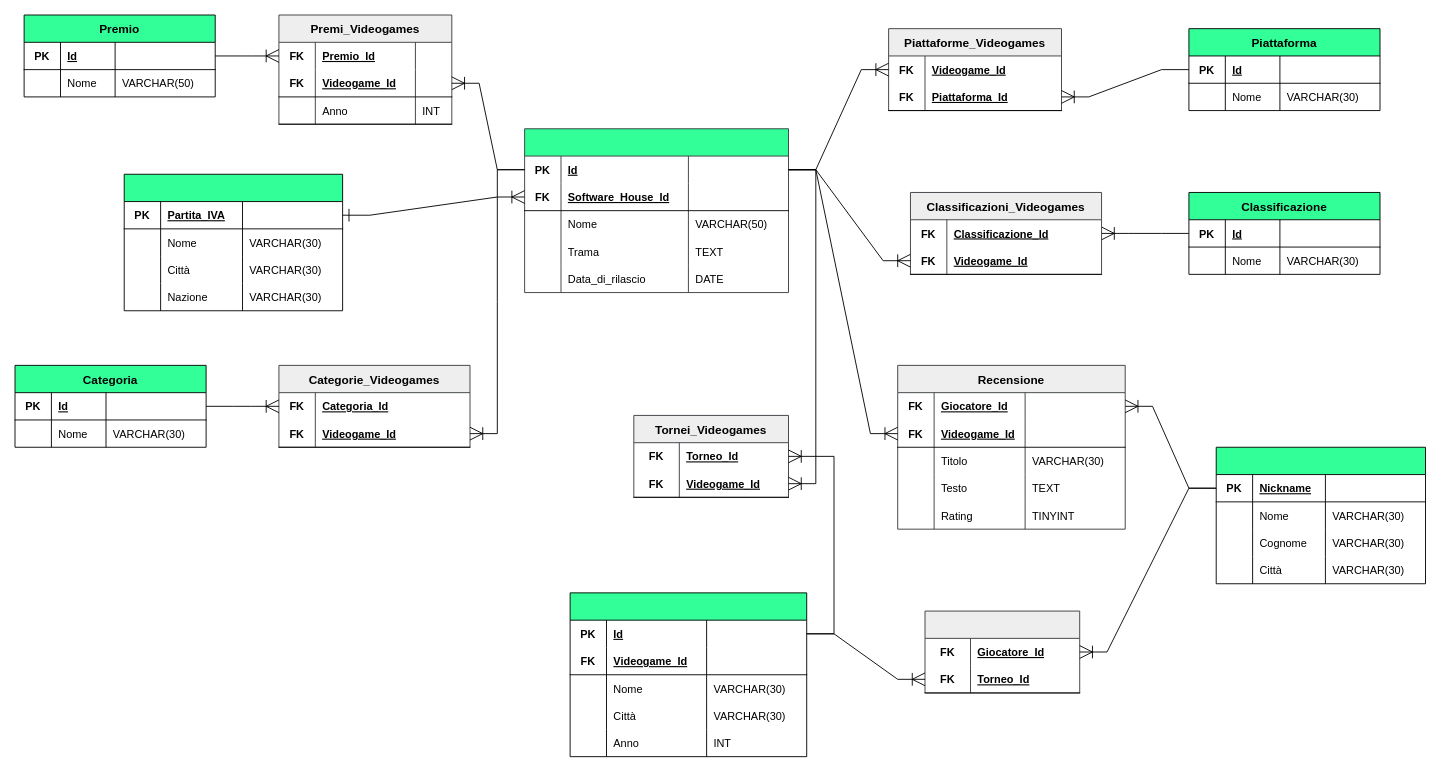
This 1441x772 diagram has some shape labels left out. Each missing label, with the box of its shape:
Giocatore: (1215, 446, 1426, 584)
Giocatori_Tornei: (924, 610, 1080, 693)
Software_House: (123, 173, 343, 311)
Torneo: (569, 592, 807, 757)
Videogame: (524, 128, 789, 293)
